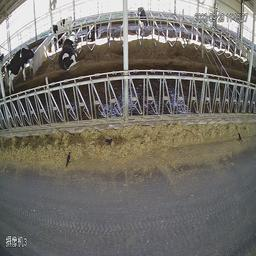cow: (6, 45, 35, 94), (60, 32, 80, 69), (136, 4, 151, 37), (51, 18, 72, 35), (86, 23, 101, 41)
